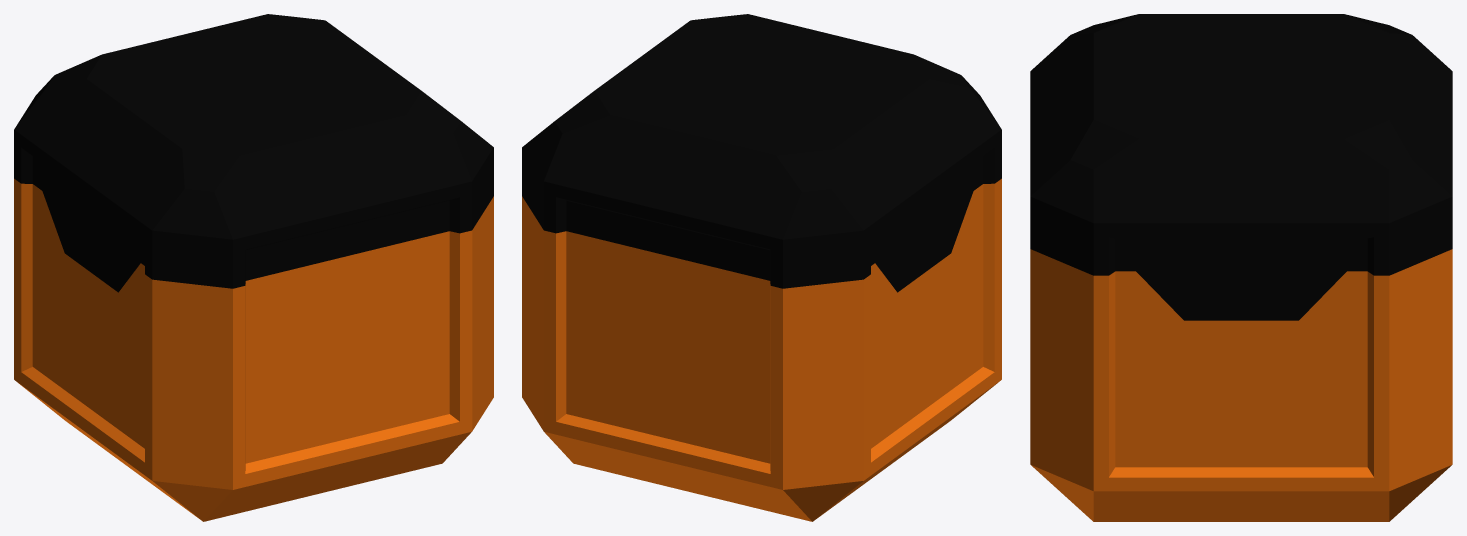
3 renders of one model, left to right at view 1: azimuth 30°, elevation 25°; view 2: azimuth 150°, elevation 25°; view 3: azimuth 270°, elevation 25°, orthographic. The views are drawn at different scales.
Visible parts, largest first — view 1: box_low, lid_low; view 2: box_low, lid_low; view 3: lid_low, box_low.
Boxes of the visible parts, bbox=[...] form: box_low: bbox=[14, 178, 493, 521]; lid_low: bbox=[14, 14, 493, 292]; box_low: bbox=[522, 178, 1001, 521]; lid_low: bbox=[522, 14, 1001, 292]; lid_low: bbox=[1030, 14, 1452, 320]; box_low: bbox=[1030, 249, 1452, 521].
Size of the model in its own units: 120 by 120 by 120.
